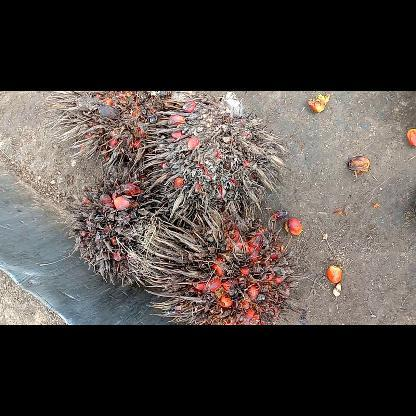Terlalu masak: (138, 90, 298, 233), (143, 198, 305, 324), (64, 165, 198, 289), (35, 90, 174, 176)
